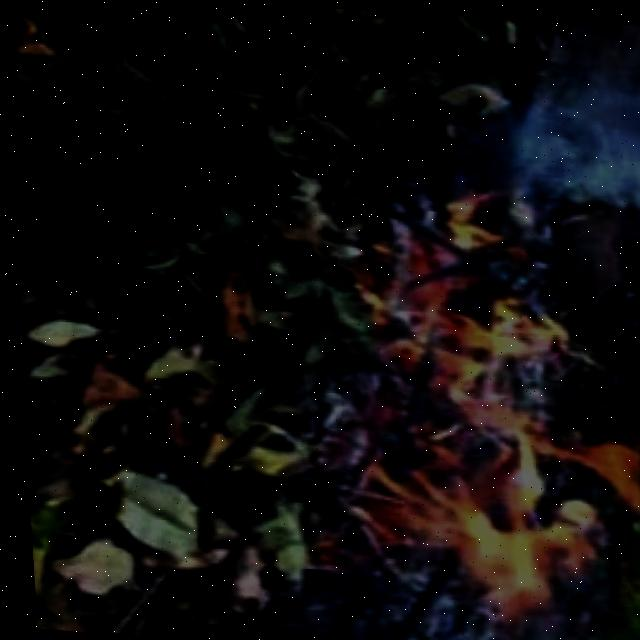Fire: (346, 237, 640, 629)
